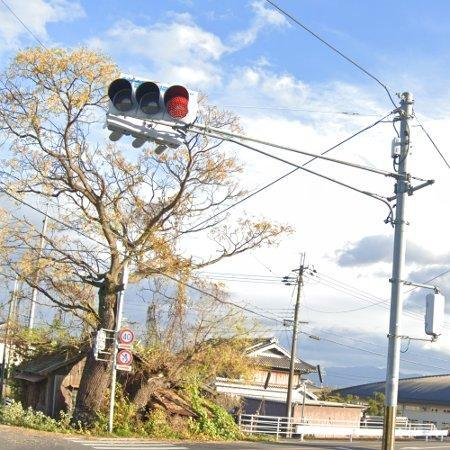traffic lights: (106, 78, 199, 125)
